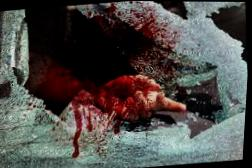Fire: (30, 1, 189, 157)
